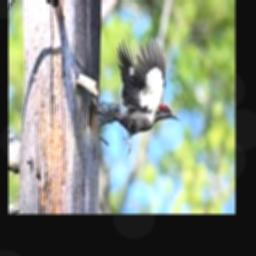Woodpecker: (94, 37, 181, 155)
